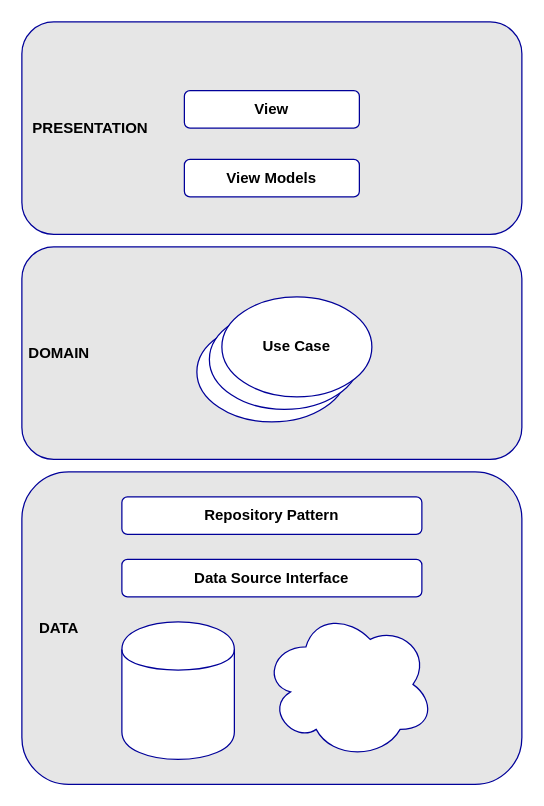
This 544x806 diagram has some shape labels left out. The box of each missing label's shape, as (x1, y1, x2, y2) in pixels:
Local Database: (121, 621, 234, 759)
Remote Service: (262, 608, 434, 759)
